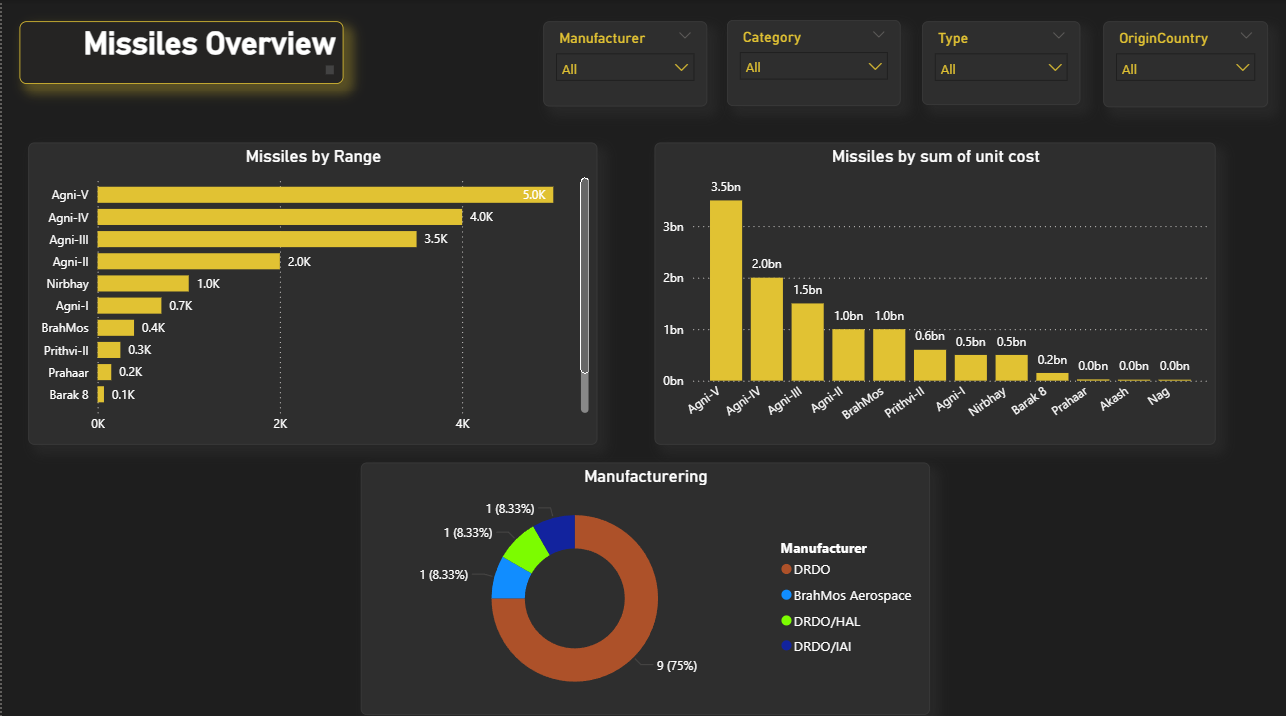

The page's visual inventory and layout, read from the dashboard file:
{"tool":"powerbi","page":{"name":"Page 6","canvas":[1280,720],"ordinal":5},"visuals":[{"type":"textbox","title":"Missiles Overview","box":[17.4,21.1,322.2,62.2],"z":0},{"type":"slicer","fields":{"Values":["Missils.Category"]},"box":[721.5,19.9,172.9,85.8],"z":1000},{"type":"slicer","fields":{"Values":["Missils.Manufacturer"]},"box":[538.6,21.1,163,84.6],"z":2000},{"type":"slicer","fields":{"Values":["Missils.OriginCountry"]},"box":[1095.9,21.1,164.2,85.8],"z":3000},{"type":"slicer","fields":{"Values":["Missils.Type"]},"box":[915.6,21.1,158,83.3],"z":4000},{"type":"barChart","title":"Missiles by Range","fields":{"Category":["Missils.WeaponName"],"Y":["Sum(Missils.Range (km))"]},"box":[26.1,141.8,566,301],"z":5000},{"type":"columnChart","title":"Missiles by sum of unit cost","fields":{"Category":["Missils.WeaponName"],"Y":["Sum(Missils.UnitCost (INR))"]},"box":[649.3,141.8,558.5,301],"z":6000},{"type":"donutChart","title":" Manufacturering","fields":{"Category":["Missils.Manufacturer"],"Y":["CountNonNull(Missils.OriginCountry)"]},"box":[357,460.3,566,260],"z":7000}]}

Visuals, with their boxes in screenshot pixels (x1, y1, x2, y2), scaled from the page's 1280x720 canvas onto the 1286x716 screenshot:
"Missiles Overview" textbox: pyautogui.locateOnScreen(17, 21, 341, 83)
slicer - Missils.Category: pyautogui.locateOnScreen(725, 20, 899, 105)
slicer - Missils.Manufacturer: pyautogui.locateOnScreen(541, 21, 705, 105)
slicer - Missils.OriginCountry: pyautogui.locateOnScreen(1101, 21, 1266, 106)
slicer - Missils.Type: pyautogui.locateOnScreen(920, 21, 1079, 104)
"Missiles by Range" barChart: pyautogui.locateOnScreen(26, 141, 595, 440)
"Missiles by sum of unit cost" columnChart: pyautogui.locateOnScreen(652, 141, 1213, 440)
" Manufacturering" donutChart: pyautogui.locateOnScreen(359, 458, 927, 715)
